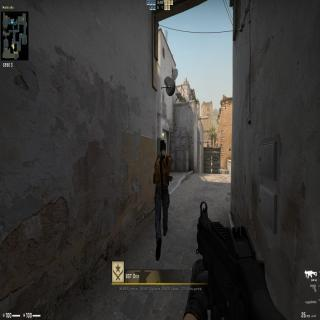T-Head: (159, 140, 168, 154)
